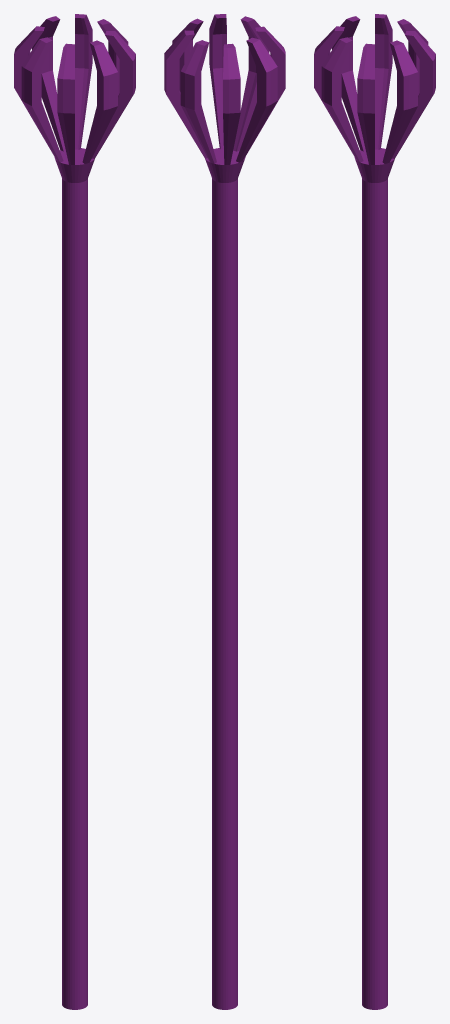
The model's file is latern1.fbx.
3 views of the same model, side by side, from view 1: azimuth 90°, elevation 25°; view 2: azimuth 150°, elevation 25°; view 3: azimuth 270°, elevation 25° (orthographic).
Visible parts, largest first — view 1: Cylinder; view 2: Cylinder; view 3: Cylinder.
Boxes of the visible parts, x1=… form: Cylinder: x1=14, y1=14, x2=135, y2=1009; Cylinder: x1=164, y1=14, x2=285, y2=1009; Cylinder: x1=314, y1=14, x2=435, y2=1009.
Bounding box in the file's own units: 93.46 × 824 × 93.46.
